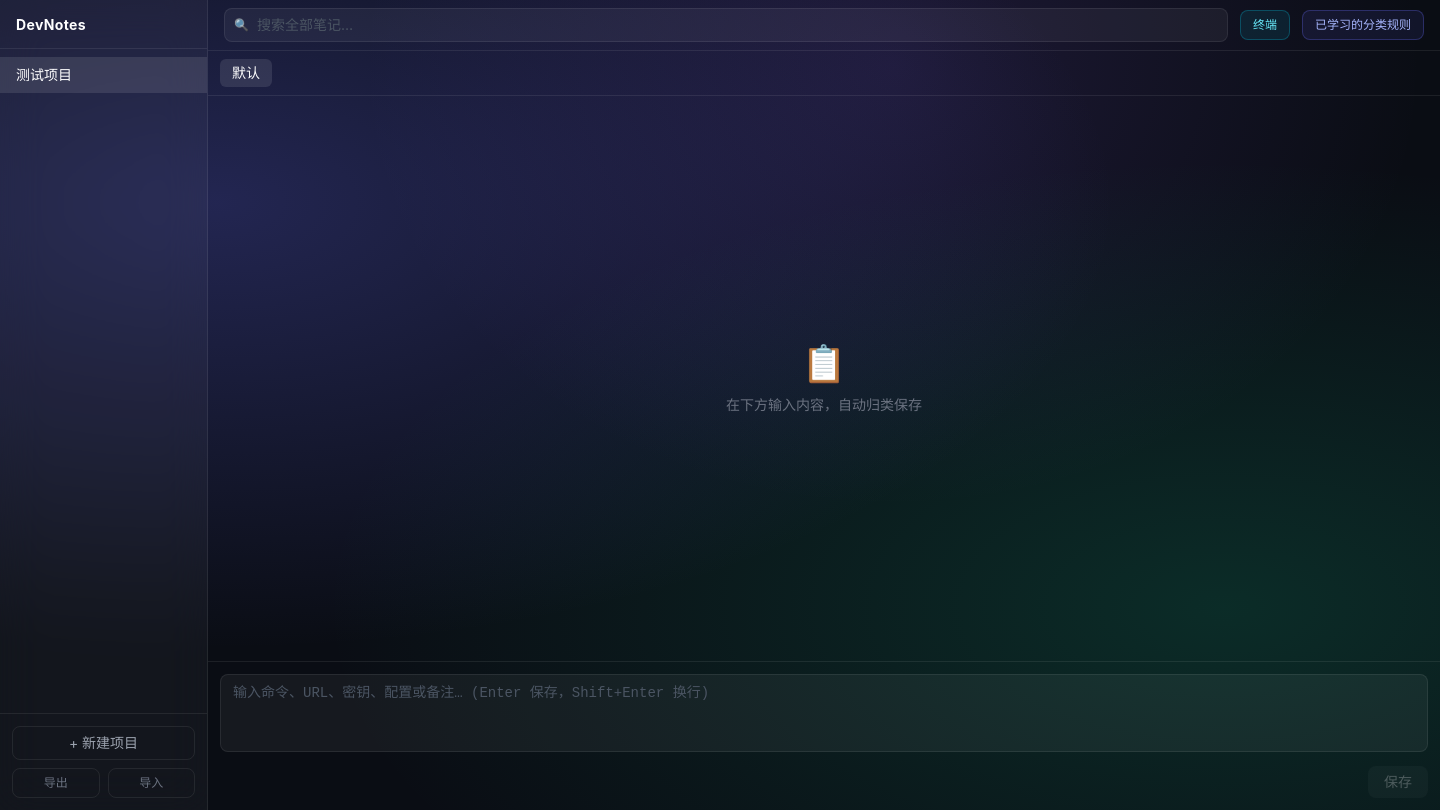
Scenario: App terminal view switching › switches to the terminal panel and back when the project has a bound directory
What coordinates should you click on to do the following:
click the button "终端"
I would click on:
 (1265, 25)
Its box is [1240,10,1290,40].
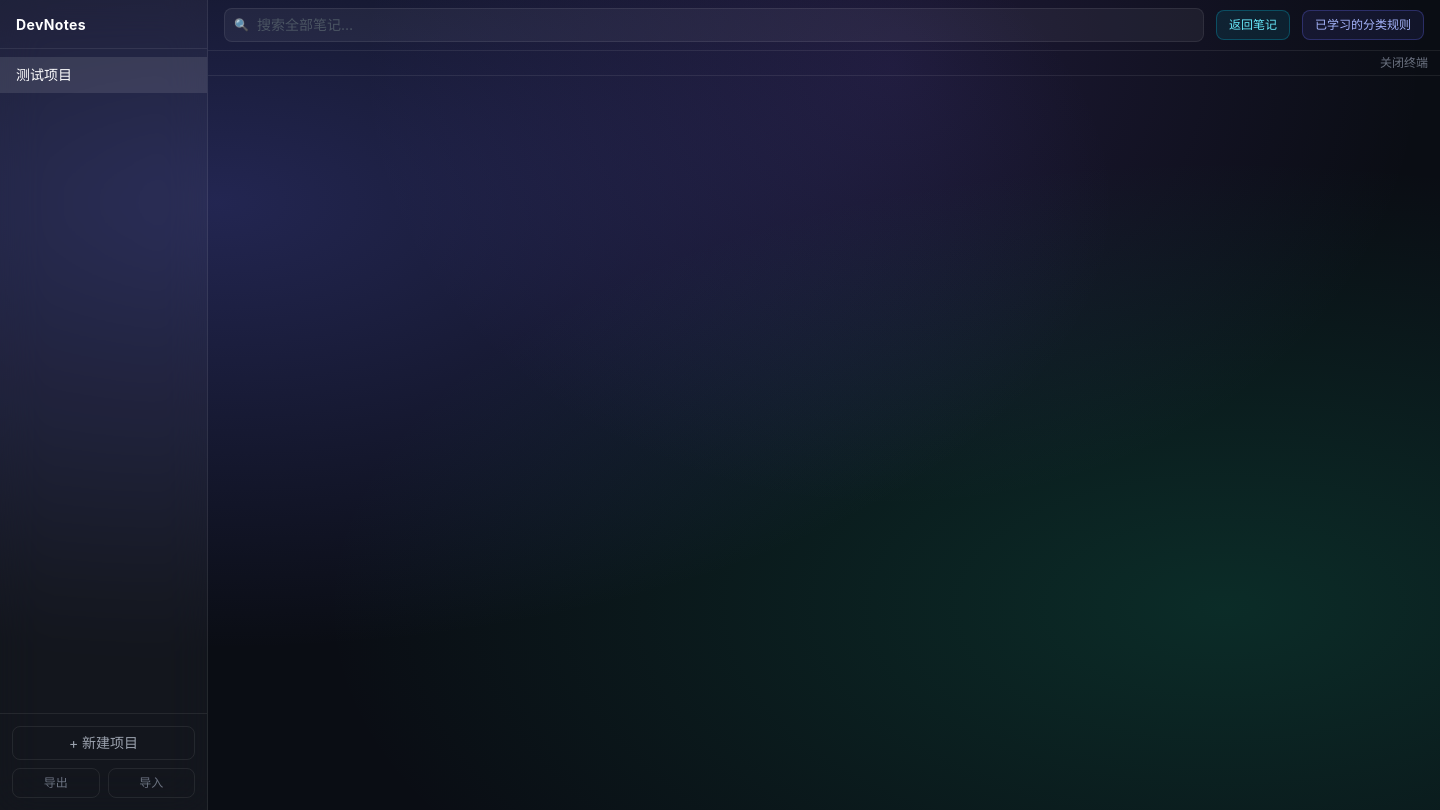
Expected: the button "已学习的分类规则" is shown, [1302,10,1424,40]
Now the button "返回笔记" is shown
What coordinates should you click on to do the following:
click the button "返回笔记"
I would click on:
 (1253, 25)
Its box is [1216,10,1290,40].
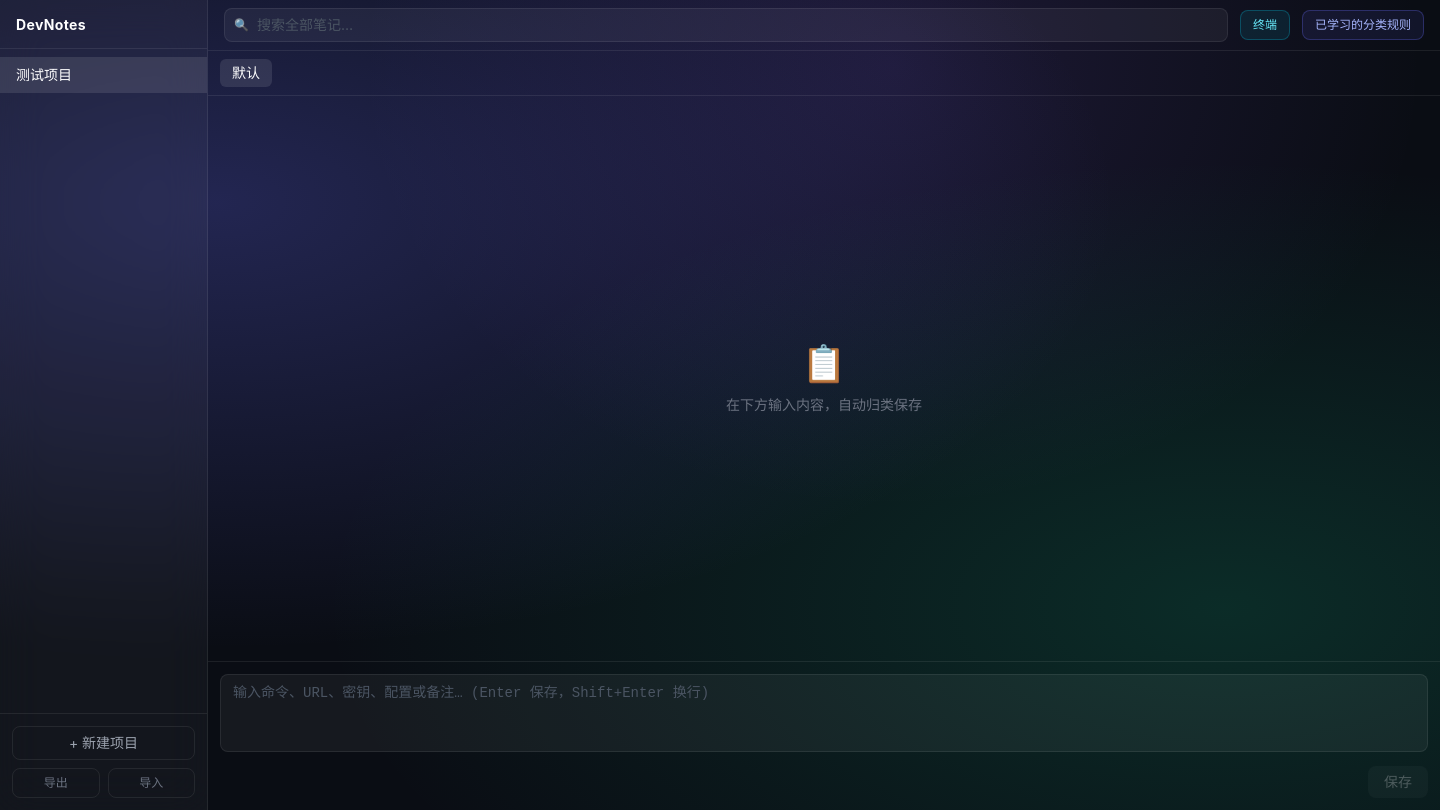
Now the button "终端" is shown, box [1240,10,1290,40]
